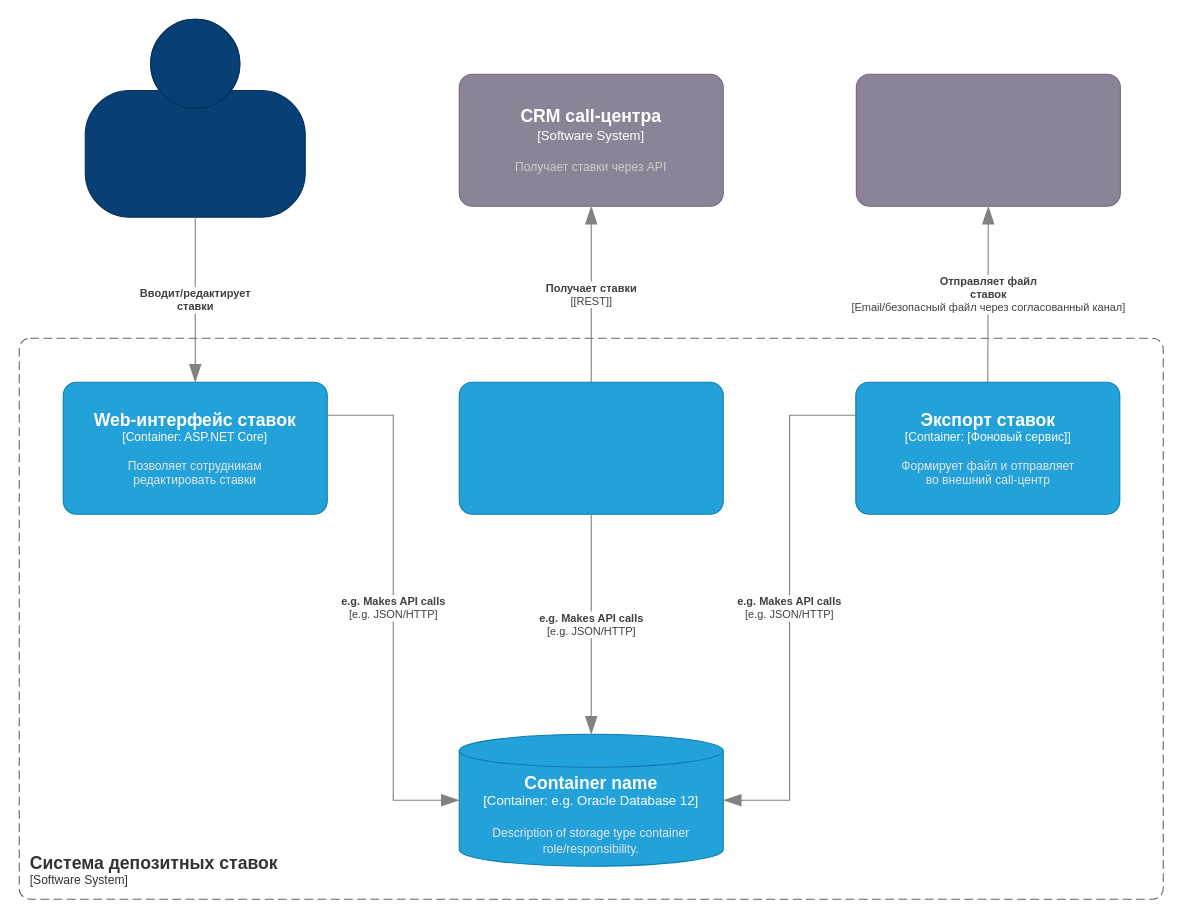
This 1183x919 diagram has some shape labels left out. Here are the shapes that lost their labels. From the top down, the box of each, then its label:
(84, 18, 305, 217): Сотрудник бэк-офиса [Person] Вводит или редактирует ставки
(855, 73, 1120, 206): Система партнерского call-центра [Software System] Получает файл со ставками
(458, 381, 723, 514): API ставок [Container: [REST]] Позволяет CRM получить актуальные ставки
